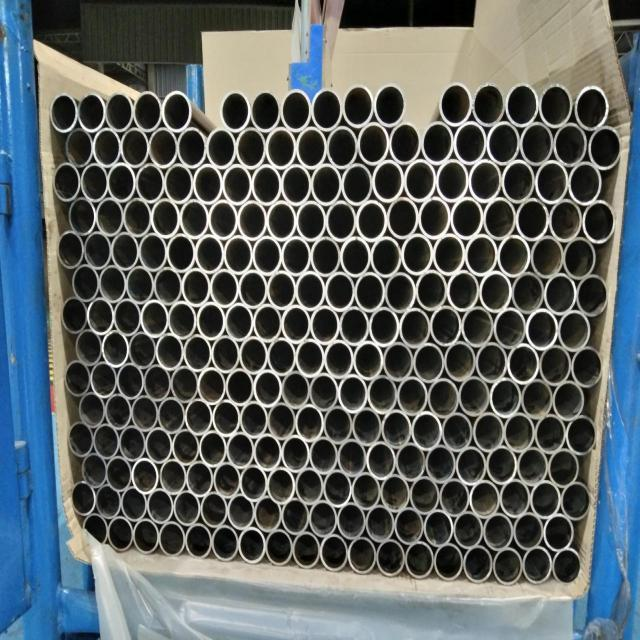pipe: (553, 122, 588, 168), (496, 234, 531, 279), (574, 85, 609, 130), (539, 84, 574, 128), (549, 198, 583, 243), (530, 235, 564, 280), (453, 120, 487, 165), (486, 121, 520, 166), (519, 121, 553, 166), (468, 158, 502, 203), (501, 159, 535, 204), (534, 160, 568, 205), (568, 161, 602, 206), (563, 235, 596, 281), (439, 81, 472, 127), (505, 83, 539, 127), (588, 125, 622, 169), (483, 196, 516, 241), (516, 197, 549, 242), (582, 199, 615, 244), (472, 82, 505, 127), (421, 120, 454, 165), (436, 158, 469, 203), (418, 196, 451, 240), (451, 196, 484, 240), (374, 83, 407, 127), (389, 121, 422, 165), (404, 158, 437, 202), (387, 196, 419, 241), (358, 121, 390, 166), (326, 124, 358, 169), (372, 159, 404, 204), (465, 234, 498, 277), (479, 270, 512, 313), (511, 272, 544, 315), (544, 273, 577, 316), (576, 274, 609, 317), (461, 305, 494, 348), (493, 307, 526, 350), (557, 309, 590, 352), (343, 84, 375, 128), (296, 125, 327, 170), (342, 162, 373, 207), (507, 343, 540, 385), (433, 233, 465, 276), (402, 233, 434, 276), (370, 235, 402, 278), (416, 270, 448, 313), (447, 270, 479, 313), (384, 271, 416, 314), (430, 305, 462, 348), (399, 306, 431, 349), (525, 308, 557, 351), (444, 340, 476, 383), (571, 346, 603, 389), (458, 375, 490, 418), (311, 88, 343, 131), (357, 199, 388, 243), (281, 88, 312, 132), (266, 126, 297, 170), (311, 162, 342, 206), (475, 341, 507, 383), (413, 342, 445, 384), (539, 344, 571, 386), (521, 378, 553, 420), (552, 380, 584, 422), (441, 411, 473, 453), (472, 411, 504, 453), (296, 200, 327, 243), (326, 200, 357, 243), (251, 89, 282, 132), (251, 163, 282, 206), (281, 163, 312, 206), (236, 126, 266, 170), (427, 377, 459, 418), (534, 413, 566, 454), (340, 236, 371, 278), (355, 271, 386, 313), (369, 306, 400, 348), (490, 377, 521, 419), (237, 199, 267, 242), (266, 199, 296, 242), (221, 89, 251, 132), (148, 126, 178, 169), (177, 126, 207, 169), (207, 126, 237, 169), (164, 162, 194, 205), (193, 163, 223, 206), (222, 163, 252, 206), (516, 446, 548, 486), (383, 341, 414, 382), (397, 376, 428, 417), (381, 408, 412, 449), (503, 412, 534, 453), (566, 415, 597, 456), (486, 445, 517, 486), (548, 447, 579, 488), (500, 478, 531, 519), (513, 511, 544, 552), (208, 199, 238, 241), (311, 236, 341, 278), (162, 90, 192, 132), (133, 91, 163, 133), (411, 410, 442, 450), (425, 444, 456, 484), (456, 446, 487, 486), (439, 477, 470, 517), (530, 480, 561, 520), (560, 481, 591, 521), (452, 510, 483, 550), (483, 512, 514, 552), (223, 234, 253, 275), (252, 235, 282, 276), (281, 236, 311, 277), (267, 270, 297, 311), (295, 270, 325, 311), (325, 271, 355, 312), (310, 305, 340, 346), (339, 306, 369, 347), (324, 339, 354, 380), (353, 340, 383, 381), (367, 374, 397, 415), (470, 478, 500, 519), (493, 545, 523, 586), (105, 91, 134, 133), (136, 162, 165, 204), (121, 126, 149, 169), (309, 372, 339, 412), (338, 373, 368, 413), (323, 405, 353, 445), (352, 406, 382, 446), (396, 442, 426, 482), (364, 504, 394, 544), (423, 508, 453, 548), (543, 513, 573, 553), (463, 544, 493, 584), (522, 545, 552, 585), (123, 197, 152, 238), (152, 198, 181, 239), (180, 199, 209, 240), (139, 232, 168, 273), (167, 232, 196, 273), (154, 266, 183, 307), (210, 268, 239, 309), (239, 269, 268, 310), (282, 304, 311, 345), (77, 92, 106, 133), (552, 547, 583, 585), (337, 438, 367, 477), (366, 441, 396, 480), (380, 474, 410, 513), (409, 476, 439, 515), (394, 506, 424, 545), (66, 125, 93, 168), (195, 234, 224, 274), (182, 267, 211, 307), (168, 300, 197, 340), (197, 301, 226, 341), (225, 302, 254, 342), (253, 303, 282, 343), (296, 338, 325, 378), (281, 370, 310, 410), (281, 434, 310, 474), (309, 499, 338, 539), (337, 501, 366, 541), (376, 538, 405, 578), (434, 542, 463, 582), (93, 127, 122, 167), (107, 162, 136, 202), (211, 335, 240, 374), (239, 336, 268, 375), (267, 337, 296, 376), (197, 366, 226, 405), (225, 367, 254, 406), (253, 369, 282, 408), (212, 398, 241, 437), (267, 401, 296, 440), (295, 403, 324, 442), (309, 436, 338, 475), (405, 540, 434, 579), (96, 197, 124, 237), (84, 230, 112, 270), (111, 231, 139, 271), (126, 265, 154, 305), (141, 299, 169, 339), (254, 432, 282, 472), (320, 532, 348, 572), (53, 162, 81, 202), (81, 162, 109, 202), (155, 333, 184, 371), (183, 334, 212, 372), (240, 401, 269, 439), (267, 466, 296, 504), (352, 472, 381, 510), (99, 264, 127, 303), (114, 297, 142, 336), (128, 331, 156, 370), (143, 363, 171, 402), (158, 396, 186, 435), (226, 431, 254, 470), (323, 468, 351, 507), (173, 489, 201, 528), (227, 493, 255, 532), (254, 495, 282, 534), (281, 497, 309, 536), (265, 527, 293, 566), (292, 530, 320, 569), (348, 535, 376, 574), (50, 93, 78, 132), (69, 196, 96, 236), (116, 362, 144, 400), (171, 365, 199, 403), (185, 398, 213, 436), (199, 430, 227, 468), (159, 458, 187, 496), (186, 460, 214, 498), (240, 463, 268, 501), (295, 467, 323, 505), (57, 230, 84, 269), (73, 263, 100, 302), (87, 296, 114, 335), (201, 491, 228, 530), (145, 427, 173, 464), (172, 429, 200, 466), (131, 457, 159, 494), (61, 296, 88, 334), (76, 328, 103, 366), (102, 329, 129, 367), (131, 394, 158, 432), (213, 461, 240, 499), (239, 526, 266, 564), (65, 360, 92, 397), (79, 391, 106, 428), (119, 424, 146, 461), (120, 486, 147, 523), (147, 488, 174, 525), (159, 520, 186, 557), (212, 524, 239, 561), (91, 361, 117, 399), (105, 393, 131, 431), (186, 522, 212, 560), (68, 421, 94, 458), (93, 423, 119, 460), (106, 455, 132, 492), (95, 483, 121, 520), (107, 515, 133, 552), (133, 518, 159, 555), (82, 452, 107, 489), (71, 481, 96, 517), (83, 512, 109, 545)
